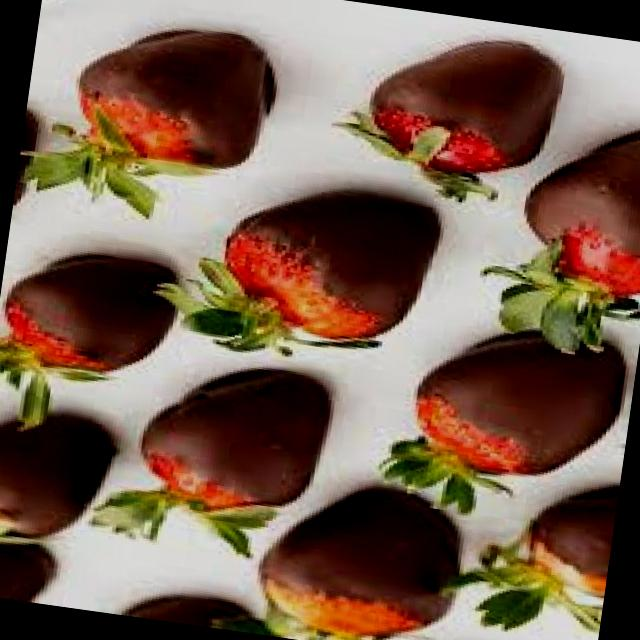Strawberry: (148, 168, 448, 380), (17, 8, 286, 240), (377, 314, 632, 537), (90, 349, 338, 569), (326, 19, 572, 218), (474, 96, 640, 365), (0, 242, 188, 454), (249, 473, 472, 640), (441, 466, 619, 640), (0, 408, 123, 564)
